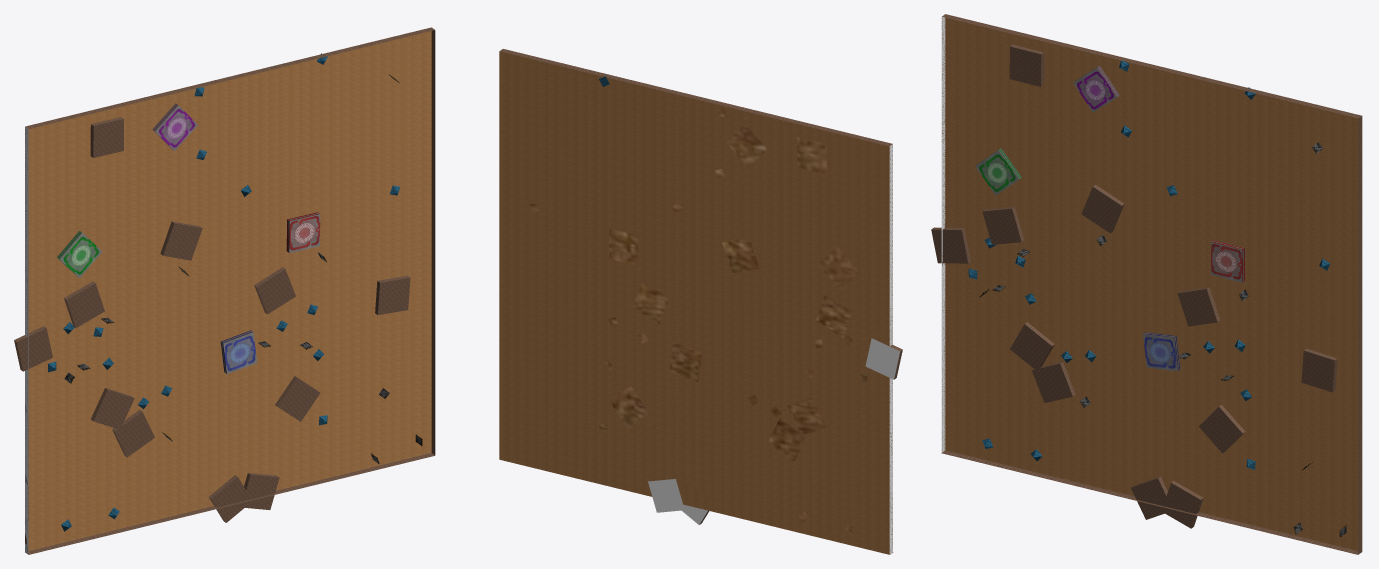
Rendered from bzworld_desert.dae.
3 renders of one model, left to right at view 1: azimuth 30°, elevation 25°; view 2: azimuth 150°, elevation 25°; view 3: azimuth 330°, elevation 25°, orthographic. The views are drawn at different scales.
Visible parts, largest first — view 1: Component (×19); view 2: Component (×17); view 3: Component (×19).
Boxes of the visible parts, x1=… form: Component (×19): x1=14, y1=27, x2=435, y2=554; Component (×17): x1=499, y1=49, x2=900, y2=554; Component (×19): x1=931, y1=14, x2=1362, y2=554.
Bounding box in the file's own units: 33890 × 2338 × 34368.
14 materials, 13 textured.
